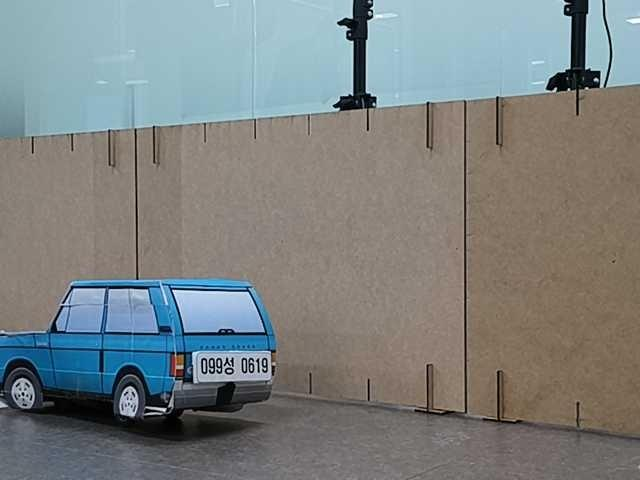car: (0, 281, 278, 424)
